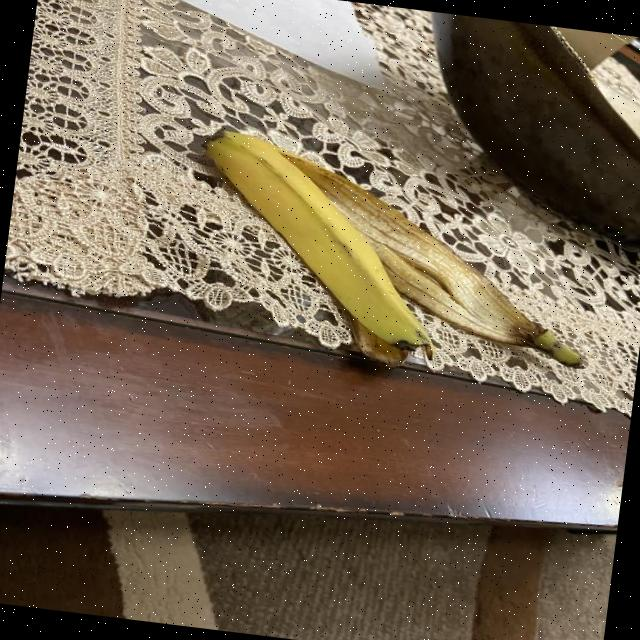banana-peel: (255, 142, 602, 368), (178, 124, 459, 368)
